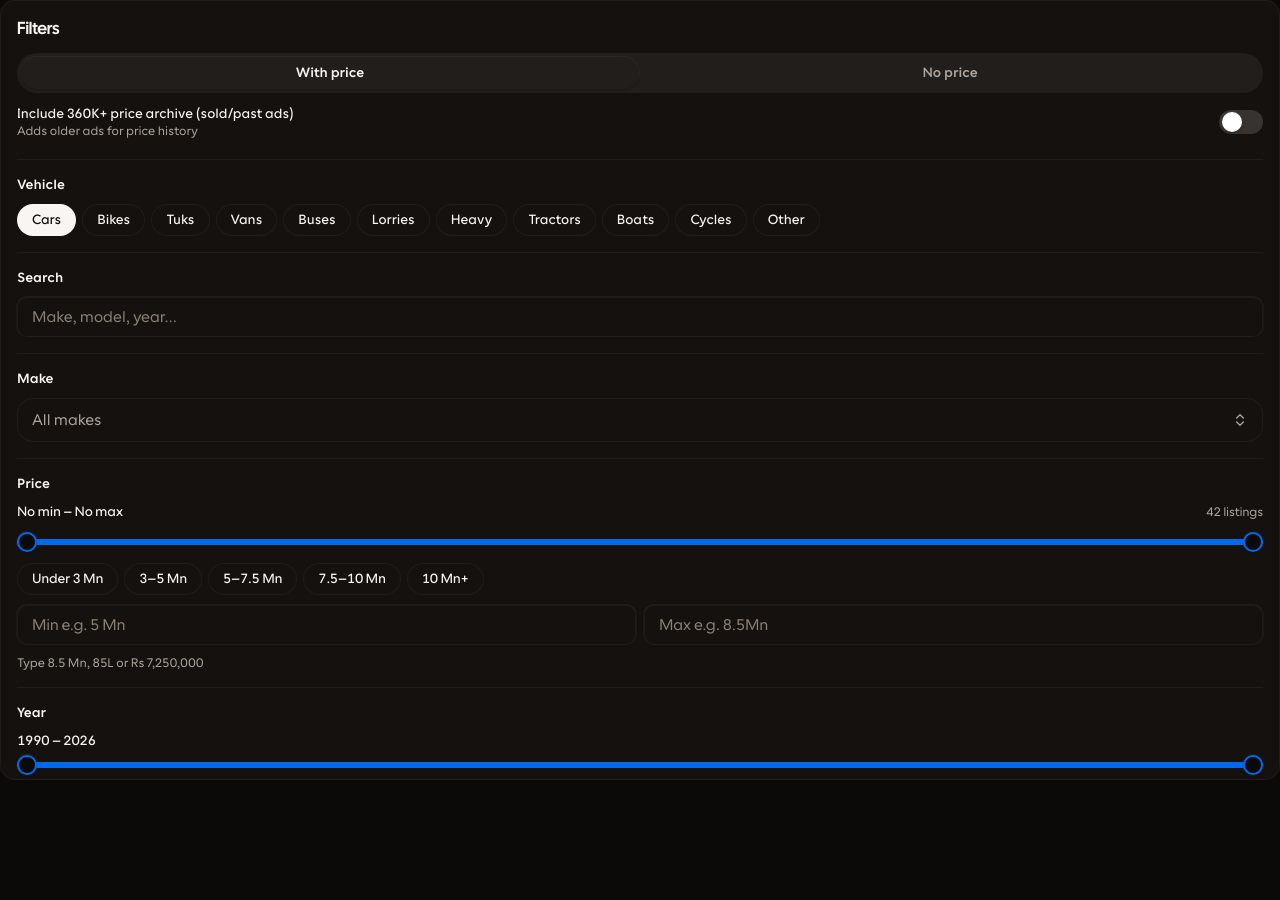
Test case: FilterSidebar price input parsing › shows thousands separators while typing a plain number
Type "7250000" into the field named "minimum price" at [326, 625], box [17,605,636,645]
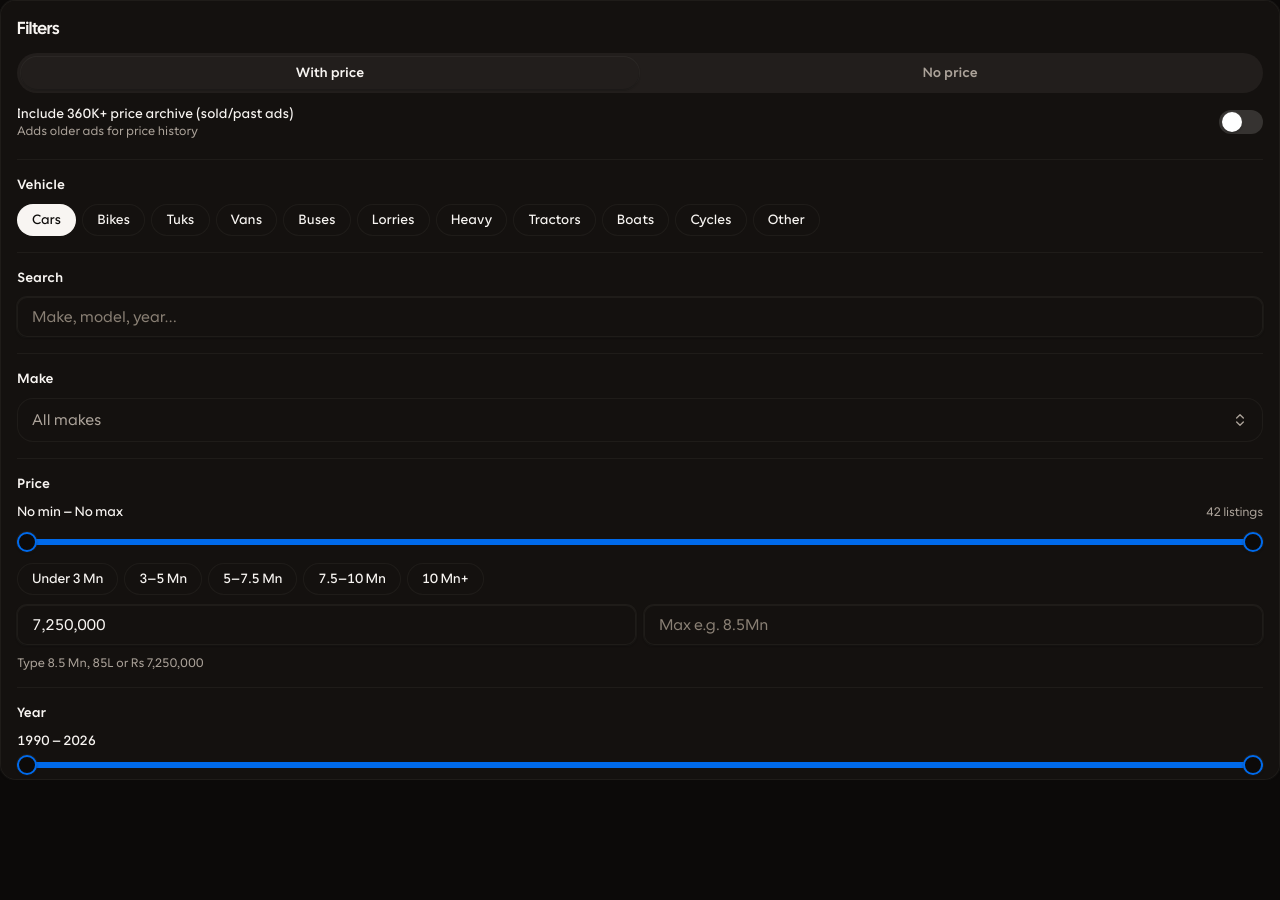
Result: the field named "minimum price" holds "7,250,000" at [17,605,636,645]
